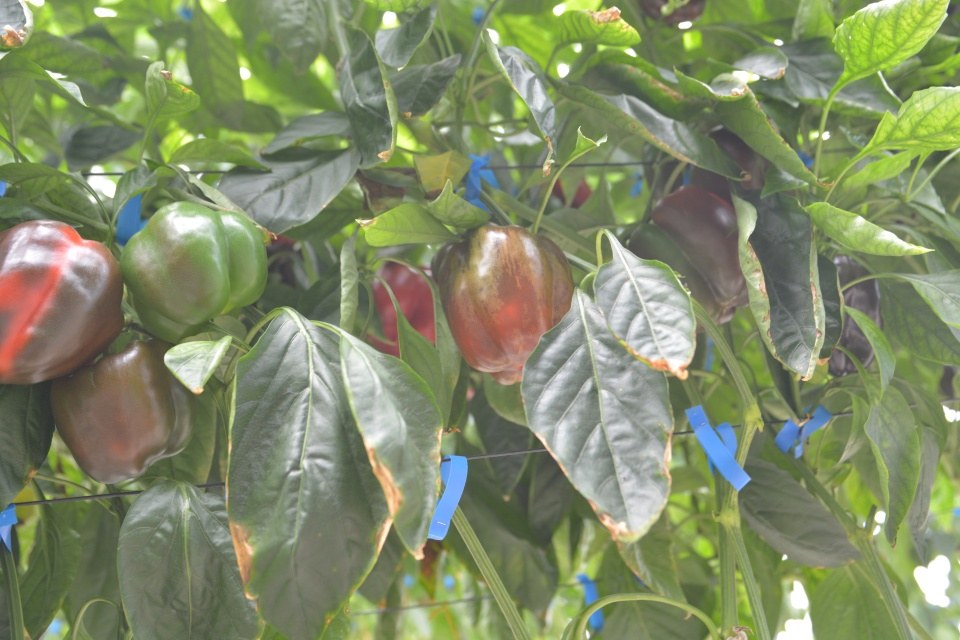fruit: (428, 218, 576, 387), (119, 194, 268, 344), (48, 337, 199, 485), (2, 215, 127, 391), (625, 183, 749, 328), (362, 258, 436, 360), (826, 252, 884, 378), (689, 120, 773, 205)
